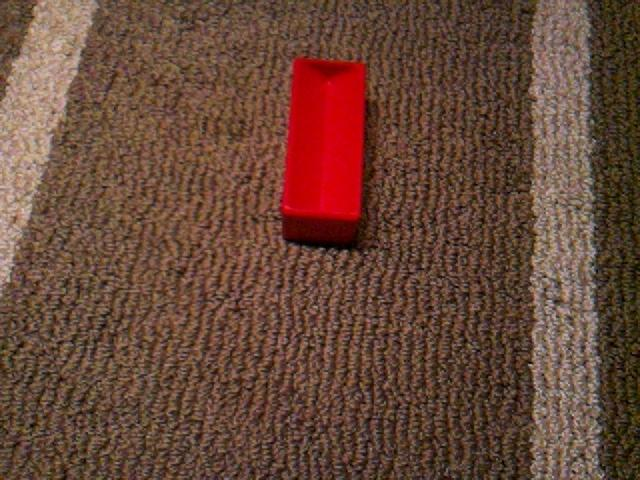red: (280, 56, 368, 246)
